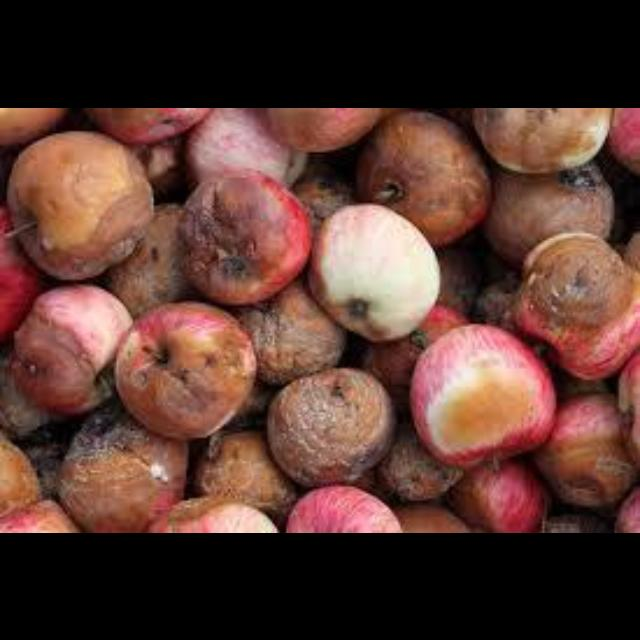apple: (7, 130, 151, 277), (410, 323, 554, 465), (114, 302, 254, 437), (512, 233, 638, 377), (307, 202, 438, 340), (356, 109, 489, 244), (179, 170, 310, 302), (9, 284, 130, 412), (265, 368, 393, 484), (484, 163, 612, 265), (472, 107, 612, 170), (449, 458, 545, 531), (286, 486, 400, 531), (84, 107, 209, 142)
rotten: (356, 109, 489, 244), (16, 140, 153, 271), (265, 368, 393, 484), (325, 214, 439, 337), (484, 163, 612, 265), (181, 181, 290, 287), (122, 338, 248, 429), (426, 366, 540, 456), (529, 238, 638, 329), (470, 107, 610, 170), (13, 322, 98, 415)
